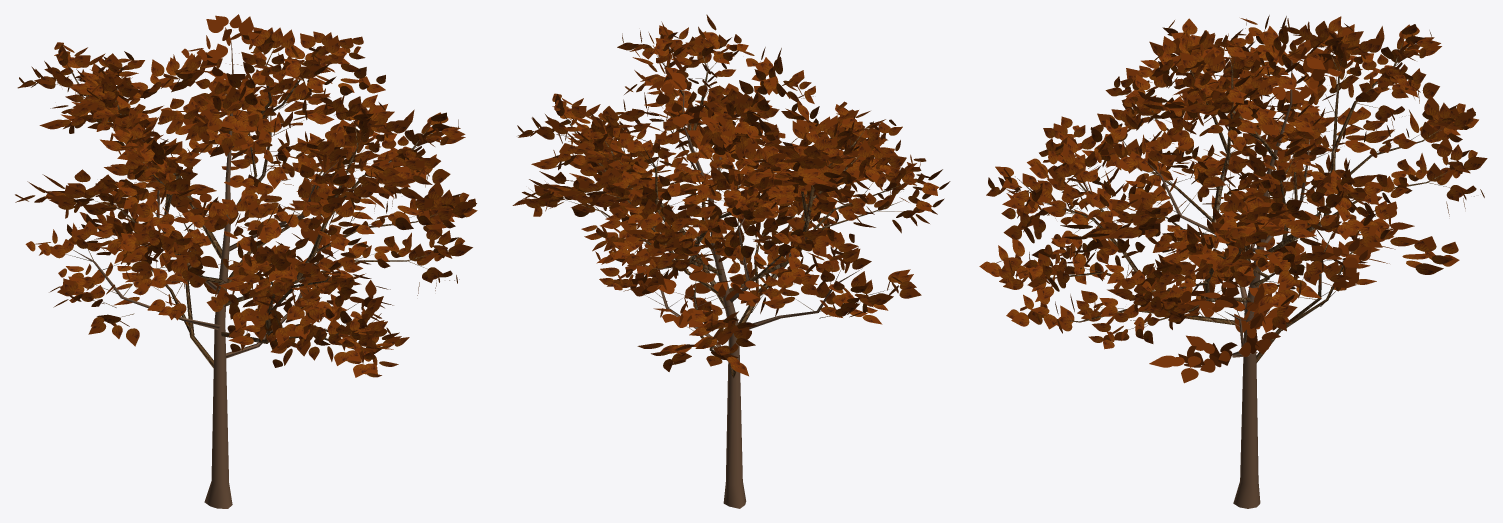
The model's file is tree3.glb.
3 renders of one model, left to right at view 1: azimuth 30°, elevation 25°; view 2: azimuth 150°, elevation 25°; view 3: azimuth 270°, elevation 25°, orthographic. The views are drawn at different scales.
Parts seen in each view (by area): view 1: Tree3; view 2: Tree3; view 3: Tree3.
Part boxes in pixels (x1,y1,x2,y2): Tree3: (15, 14, 477, 508); Tree3: (512, 14, 950, 508); Tree3: (979, 15, 1487, 508).
Bounding box in the file's own units: 6.11 × 6.85 × 6.34.
Materials: 2 (2 with a texture image).
